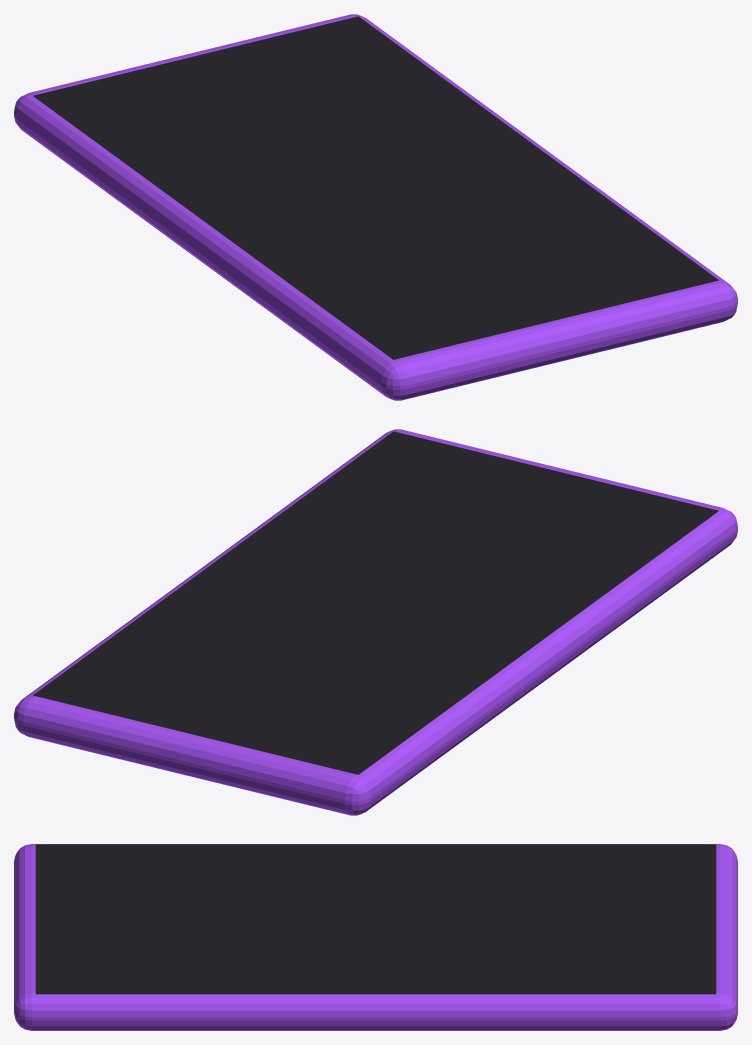
File: google-pixel-model-373-budget-2025.glb
3 views of the same model, one above another, from view 1: azimuth 30°, elevation 25°; view 2: azimuth 150°, elevation 25°; view 3: azimuth 270°, elevation 25° (orthographic). The views are drawn at different scales.
Parts seen in each view (by area): view 1: Phone_Screen, Phone_Body; view 2: Phone_Screen, Phone_Body; view 3: Phone_Screen, Phone_Body.
Part boxes in pixels (x1=…): Phone_Screen: x1=33, y1=16, x2=718, y2=359; Phone_Body: x1=14, y1=14, x2=737, y2=400; Phone_Screen: x1=33, y1=431, x2=718, y2=774; Phone_Body: x1=14, y1=429, x2=737, y2=815; Phone_Screen: x1=35, y1=844, x2=716, y2=994; Phone_Body: x1=14, y1=844, x2=737, y2=1030.
Bounding box in the file's own units: 0.0766 × 0.0079 × 0.1438.
